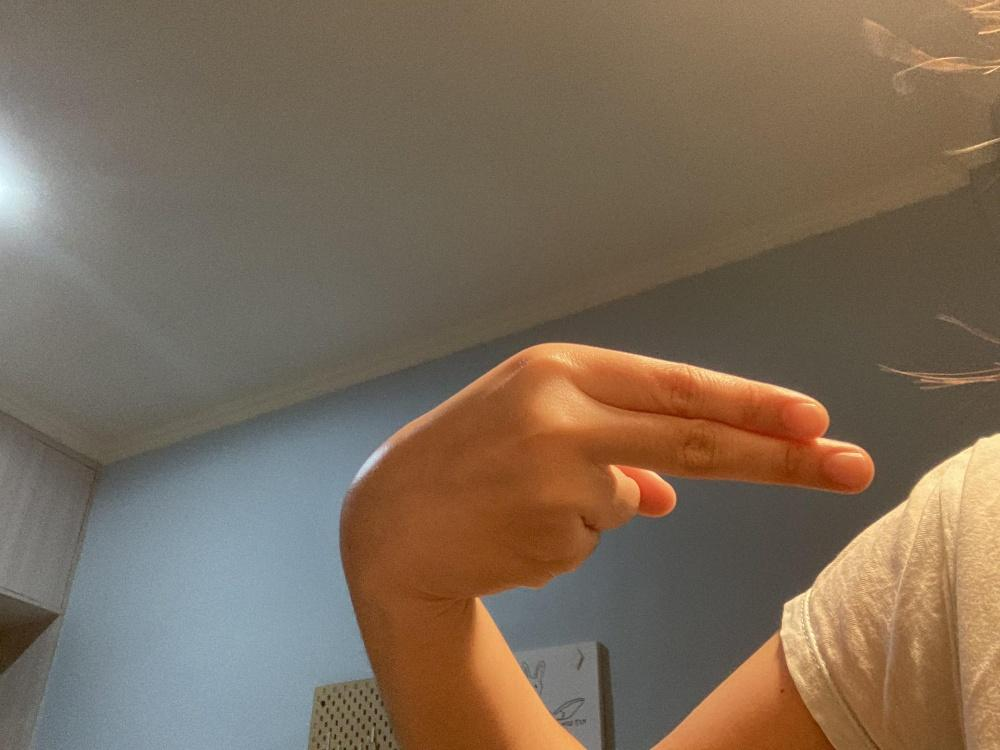h: (339, 340, 874, 599)
